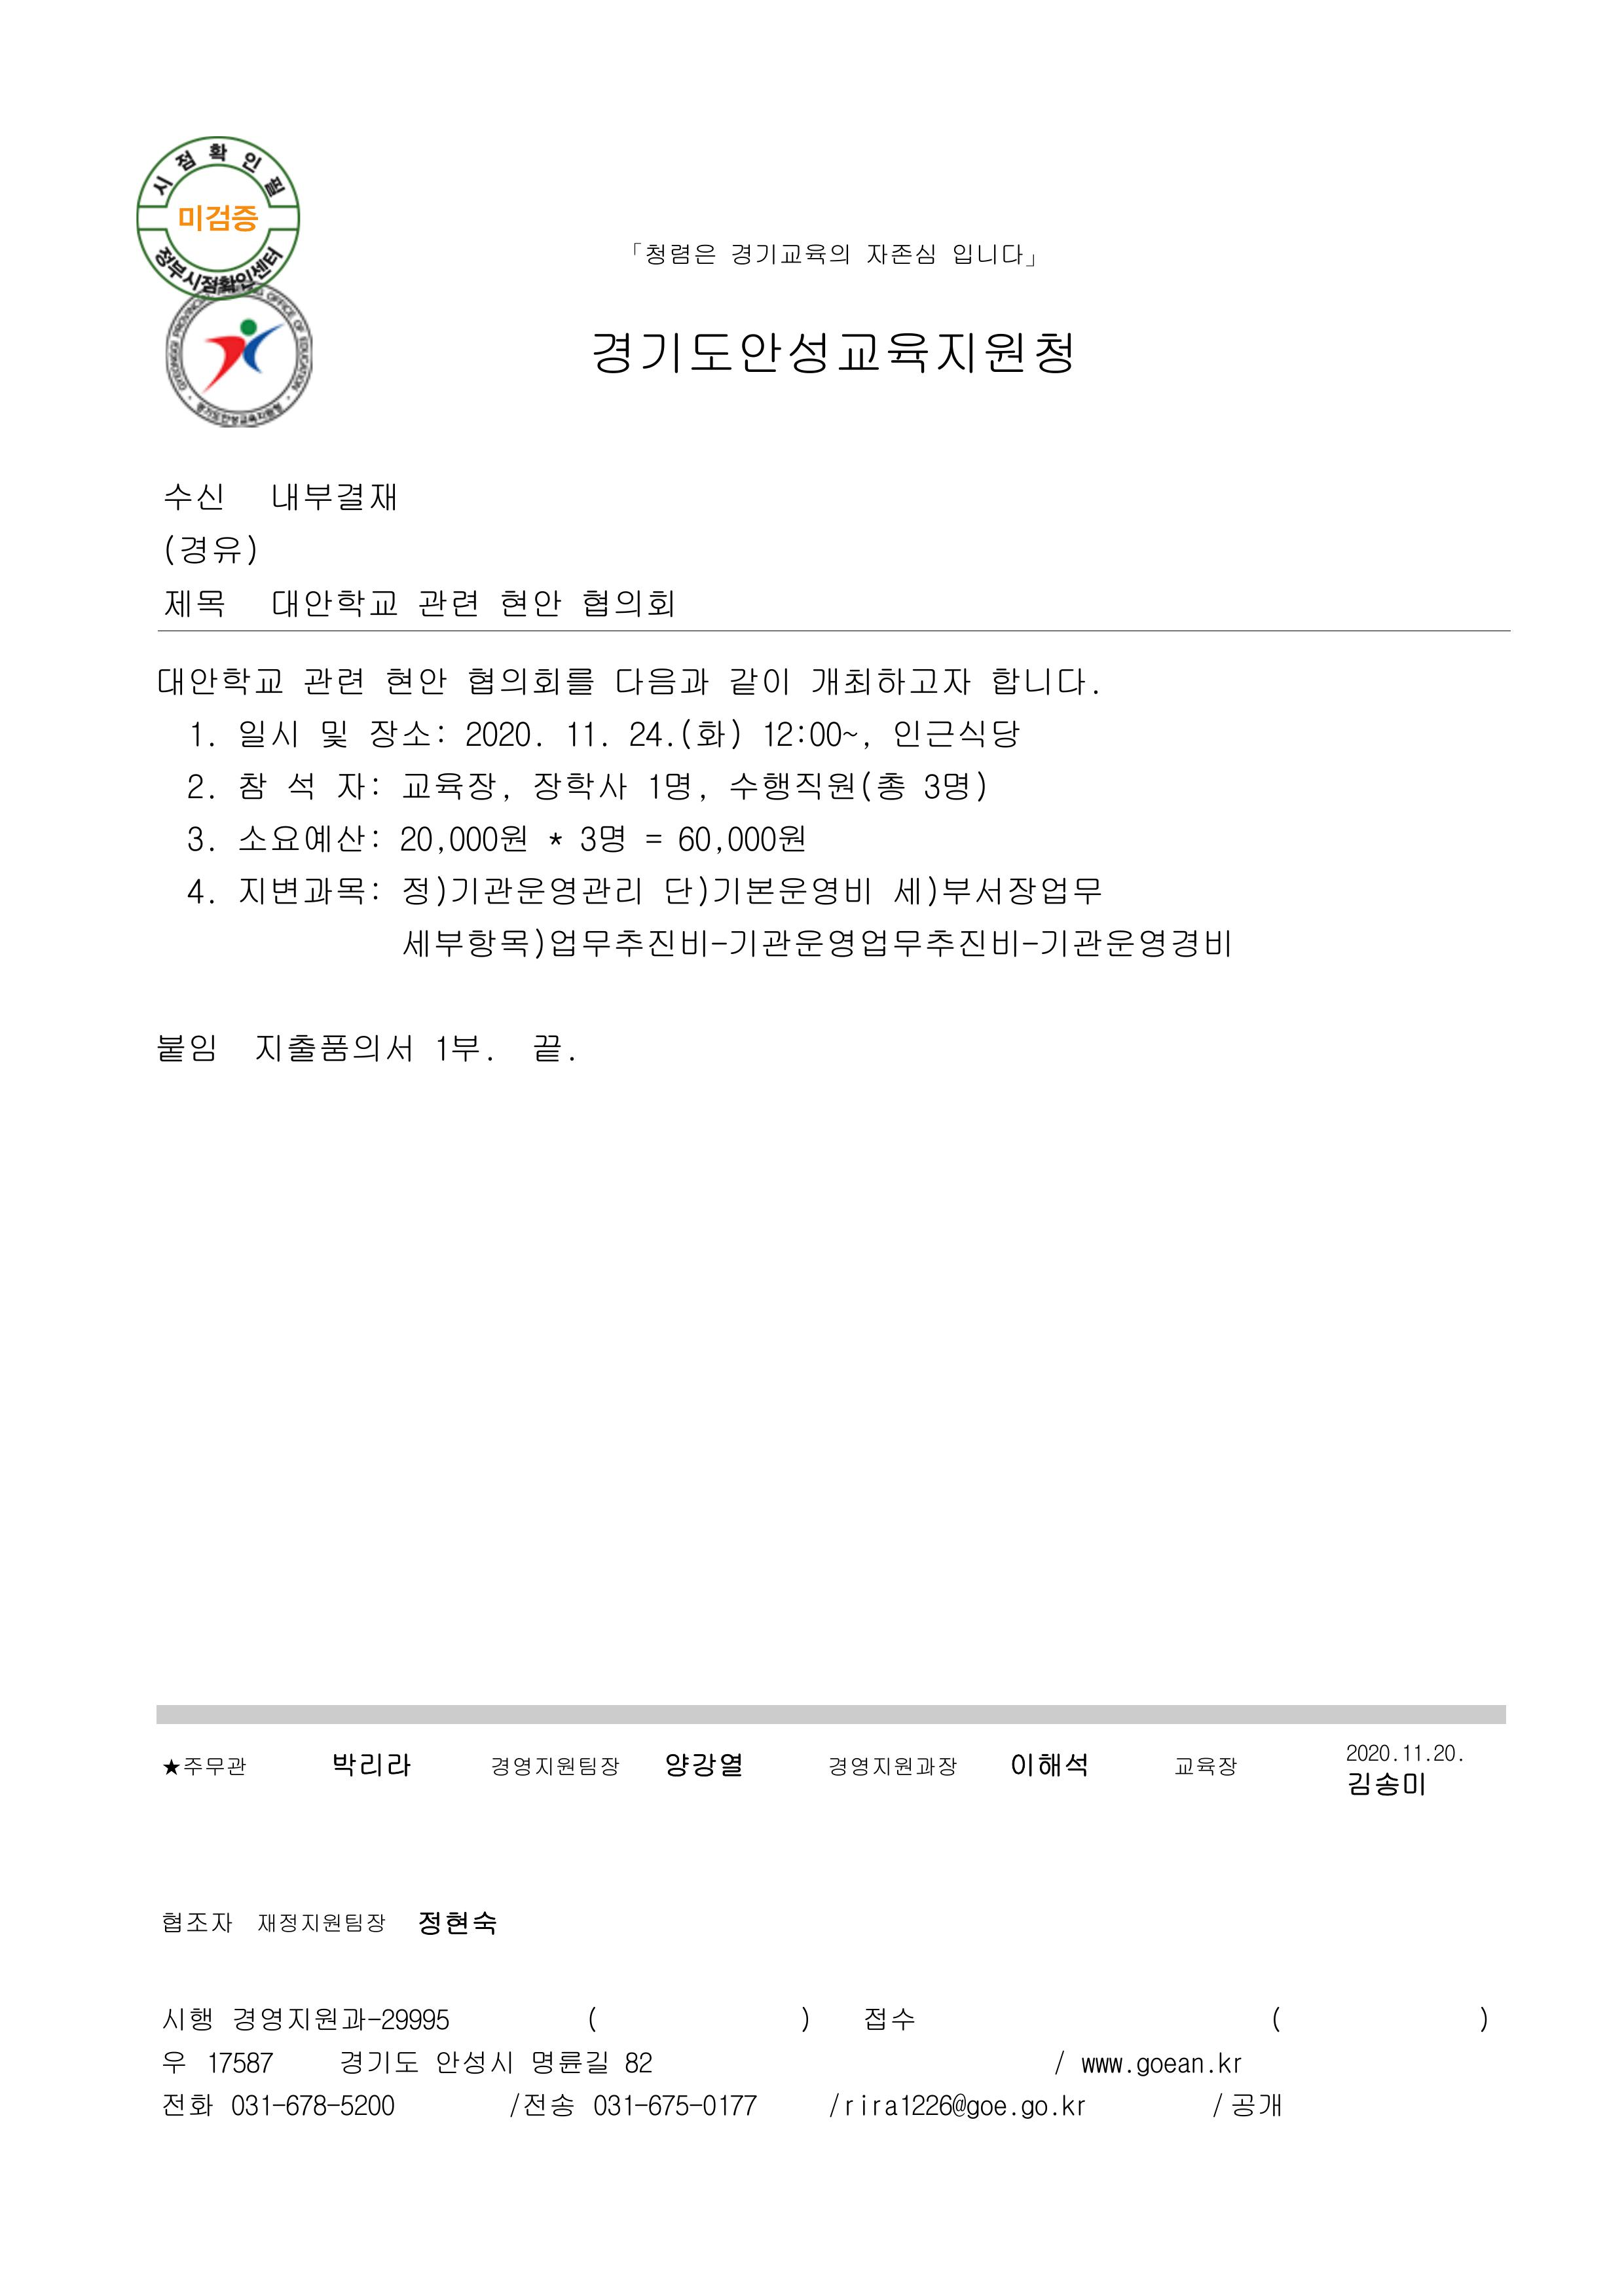t: (397, 924, 1234, 965), (591, 329, 1076, 380), (397, 872, 642, 910), (659, 872, 872, 910), (889, 872, 1100, 910), (724, 766, 910, 803), (807, 662, 972, 699), (251, 1028, 417, 1065), (232, 872, 380, 910), (889, 713, 1021, 754), (269, 476, 397, 517), (237, 821, 383, 856), (269, 583, 401, 620), (155, 662, 286, 699), (466, 662, 591, 699), (228, 2000, 341, 2037), (397, 766, 506, 803), (990, 662, 1093, 699), (527, 766, 631, 803), (896, 2089, 1011, 2123), (576, 583, 678, 620), (490, 1756, 624, 1784), (828, 1756, 961, 1784), (642, 2089, 761, 2119), (613, 662, 710, 699), (162, 531, 258, 566), (761, 717, 863, 749), (232, 766, 318, 803), (258, 1912, 387, 1937), (341, 2005, 452, 2033), (176, 200, 258, 237), (366, 717, 448, 754), (445, 821, 531, 856), (541, 821, 627, 856), (673, 713, 745, 754), (731, 244, 845, 269), (329, 1747, 417, 1778), (724, 821, 807, 854), (417, 1907, 499, 1940), (527, 2047, 613, 2079), (917, 766, 990, 803), (462, 717, 545, 749), (663, 1750, 745, 1782), (1345, 1768, 1427, 1799), (434, 2047, 517, 2079), (337, 2047, 418, 2079), (297, 662, 366, 699), (162, 583, 227, 620), (383, 662, 448, 699), (728, 662, 793, 699), (417, 583, 480, 620), (499, 583, 562, 620), (237, 717, 301, 754), (1007, 1750, 1090, 1778), (156, 1028, 218, 1065), (642, 239, 717, 269), (162, 1907, 237, 1937), (953, 244, 1040, 269), (642, 766, 700, 803), (506, 2089, 576, 2119), (165, 480, 227, 513), (204, 2047, 276, 2075), (559, 717, 613, 754), (329, 766, 383, 803), (1137, 2054, 1216, 2079), (863, 244, 939, 269), (397, 821, 448, 856), (337, 2089, 397, 2119), (431, 1033, 487, 1065), (162, 1757, 246, 1778), (162, 2088, 218, 2119), (828, 2095, 900, 2119), (624, 717, 678, 749), (279, 2089, 334, 2119), (1230, 2089, 1283, 2119), (673, 821, 717, 856), (162, 2005, 214, 2033), (861, 2005, 914, 2033), (1172, 1757, 1241, 1778), (228, 2095, 286, 2119), (591, 2095, 649, 2119), (315, 717, 352, 754), (531, 1028, 566, 1065), (1345, 1743, 1396, 1764), (183, 771, 214, 803), (620, 2047, 656, 2075), (190, 720, 221, 749), (1018, 2096, 1051, 2123), (1079, 2058, 1125, 2075), (186, 824, 211, 854), (190, 879, 211, 907), (1431, 1743, 1459, 1764), (1216, 2054, 1244, 2075), (1062, 2096, 1086, 2119), (1403, 1743, 1427, 1764)
